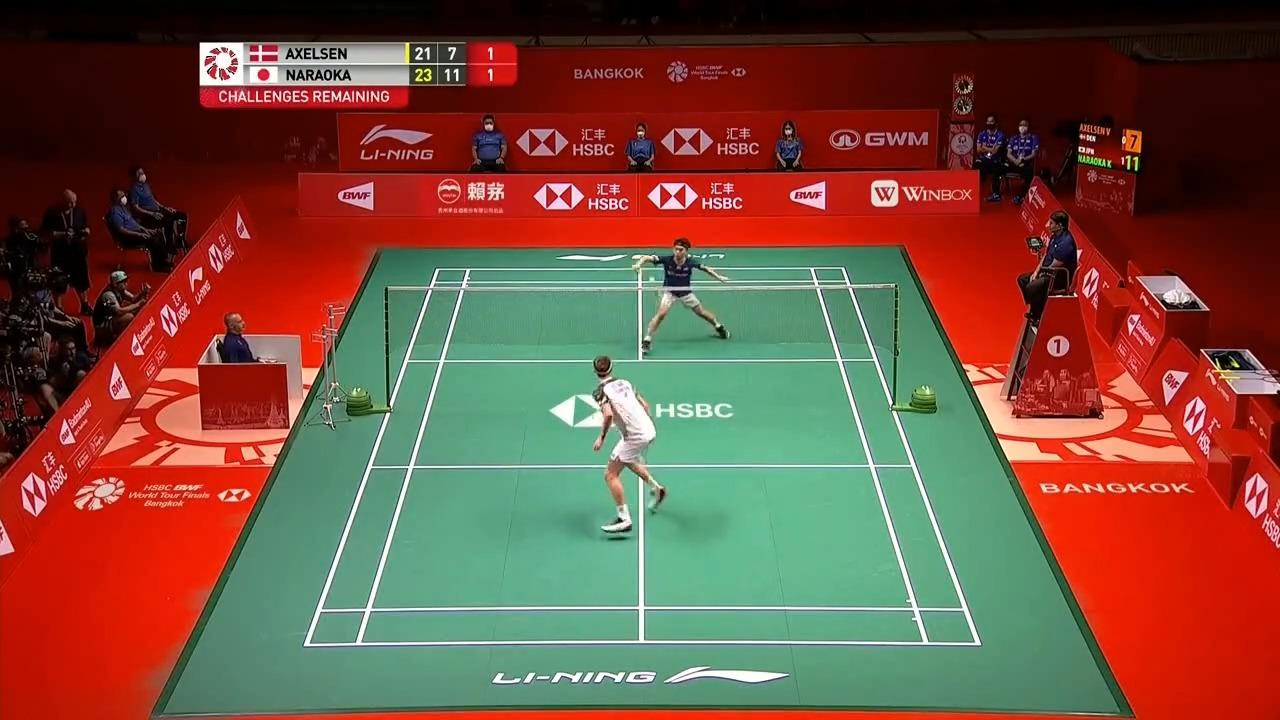shuttle: (648, 275, 658, 285)
